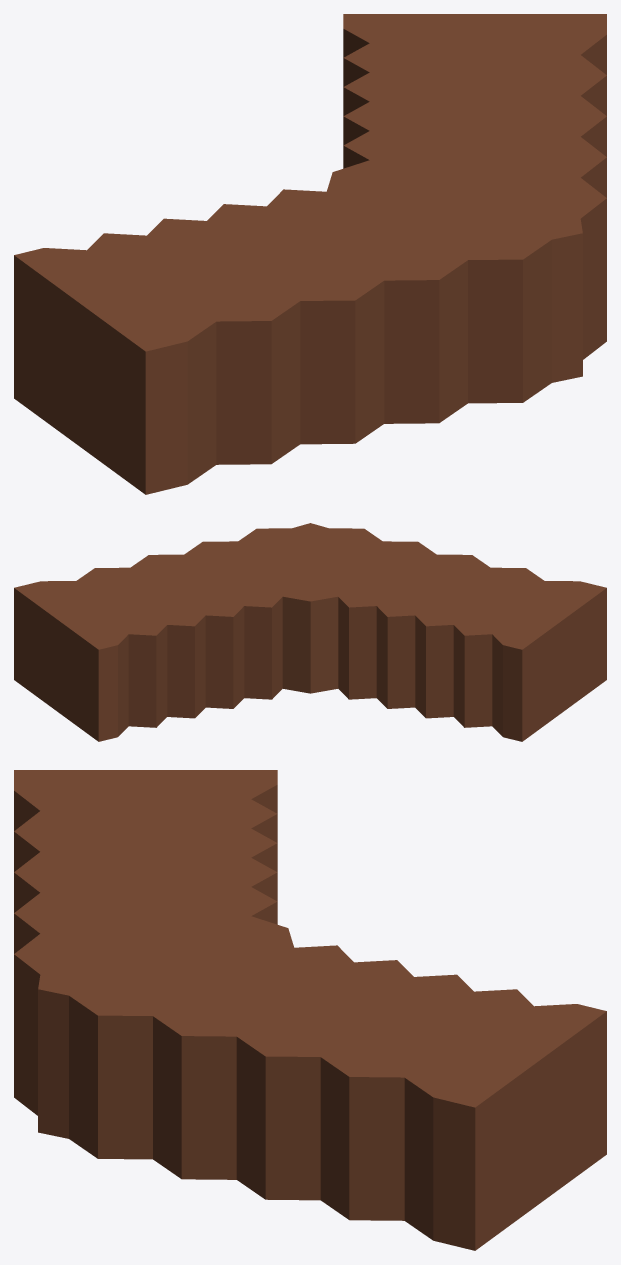
File: wooden_wall1.glb
The picture shows the model from 3 angles, top to bottom: view 1: azimuth 30°, elevation 25°; view 2: azimuth 150°, elevation 25°; view 3: azimuth 270°, elevation 25°; orthographic projection. The views are drawn at different scales.
Parts seen in each view (by area): view 1: WoodenWall3-col; view 2: WoodenWall3-col; view 3: WoodenWall3-col.
Boxes of the visible parts, x1,y1,x2,y2 form: WoodenWall3-col: (14,14,606,494); WoodenWall3-col: (14,523,606,741); WoodenWall3-col: (14,770,606,1250).
Bounding box in the file's own units: 1.52 × 0.3 × 1.12.
Materials: 1 (1 with a texture image).
